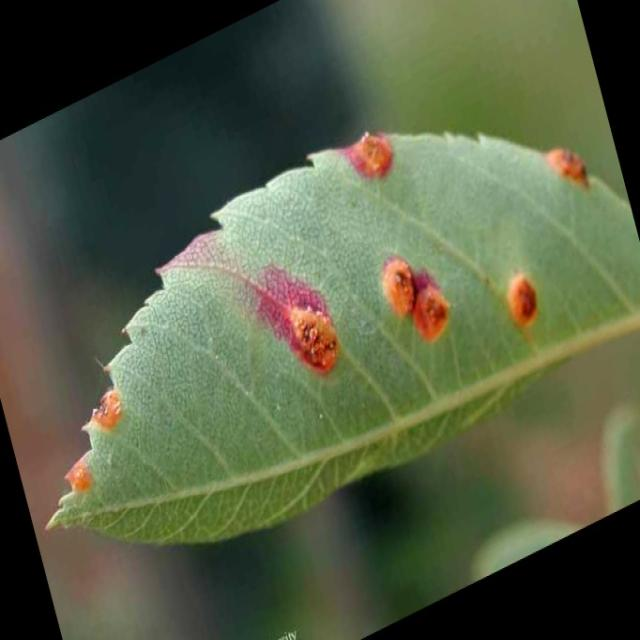Gymnosporangium_Rusts: (44, 124, 636, 545)
